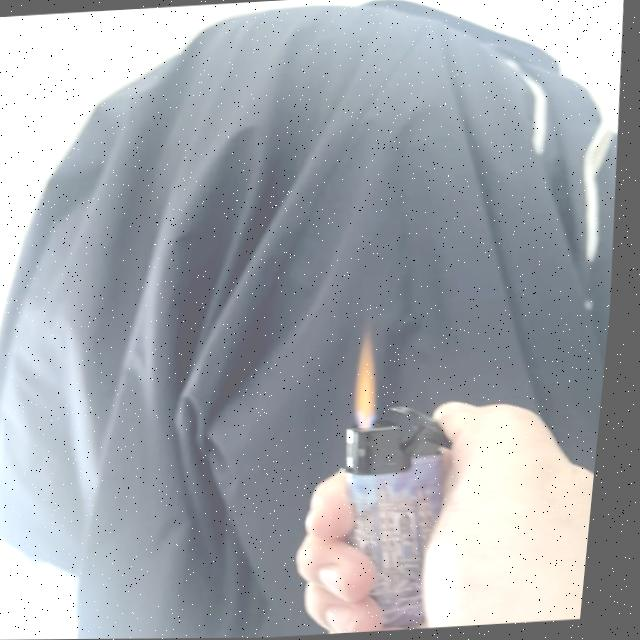Fire: (356, 336, 393, 425)
